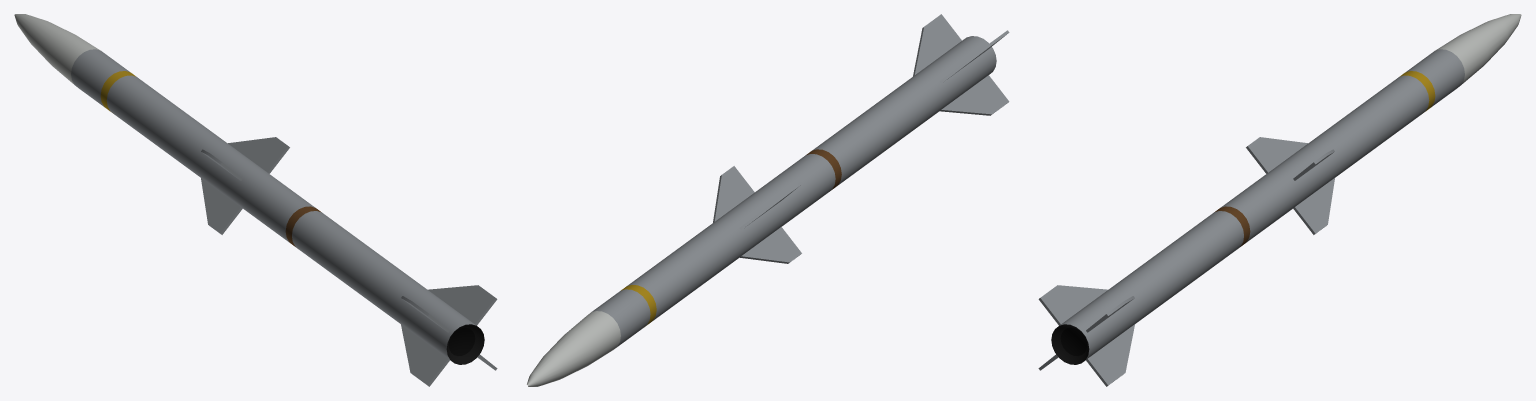
File: aim120c.glb
3 renders of one model, left to right at view 1: azimuth 30°, elevation 25°; view 2: azimuth 150°, elevation 25°; view 3: azimuth 330°, elevation 25°, orthographic.
Visible parts, largest first — view 1: AIM-120C; view 2: AIM-120C; view 3: AIM-120C.
Part boxes in pixels (x1=…): AIM-120C: x1=14, y1=14, x2=497, y2=386; AIM-120C: x1=527, y1=14, x2=1009, y2=386; AIM-120C: x1=1038, y1=14, x2=1521, y2=386.
Size of the model in its own units: 0.3267 by 0.3267 by 3.65.
